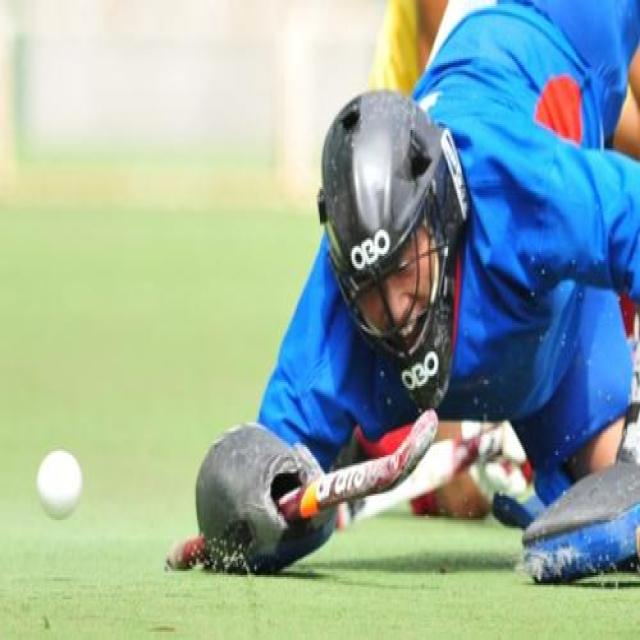fall: (251, 0, 632, 551)
